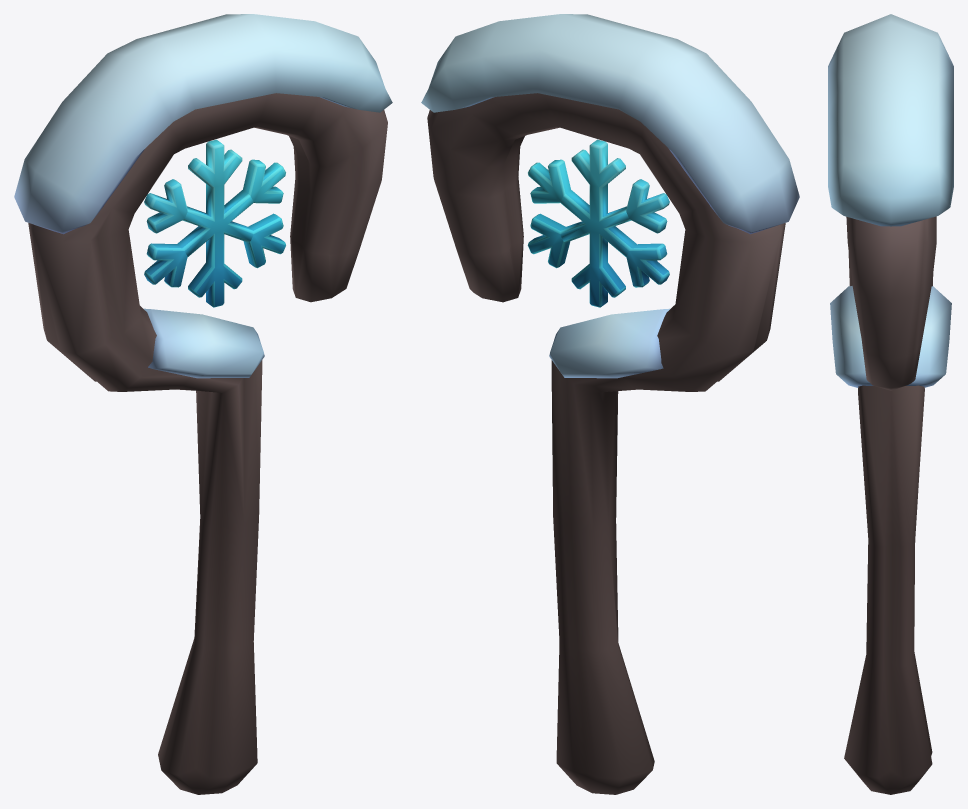
Rendered from SM_IceMage_lv1_Weapon.fbx.
The picture shows the model from 3 angles, left to right: view 1: azimuth 30°, elevation 25°; view 2: azimuth 150°, elevation 25°; view 3: azimuth 270°, elevation 25°; orthographic projection. The views are drawn at different scales.
Visible parts, largest first — view 1: SM_IceMage_lv1_Weapon; view 2: SM_IceMage_lv1_Weapon; view 3: SM_IceMage_lv1_Weapon.
Boxes of the visible parts, x1,y1,x2,y2 form: SM_IceMage_lv1_Weapon: (14, 14, 392, 794); SM_IceMage_lv1_Weapon: (421, 14, 799, 794); SM_IceMage_lv1_Weapon: (828, 14, 953, 794).
Bounding box in the file's own units: 0.5084 × 1.05 × 0.1594.
